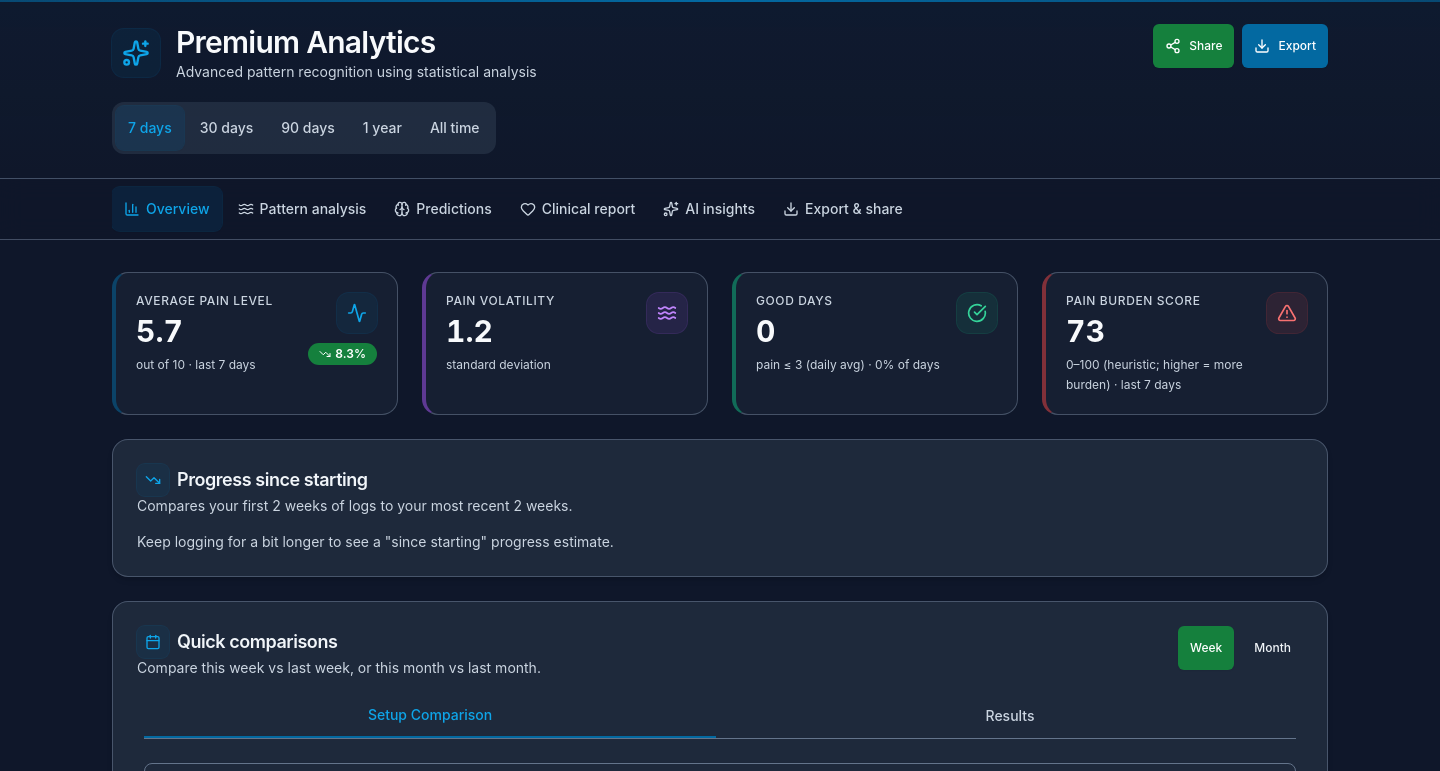
Test: PremiumAnalyticsDashboard patterns include extended fields › shows relief methods, qualities, activities, stress/activity level, and weather correlations
Click the button "Pattern analysis": (302, 209) [226,187,378,231]
(page scrolled)
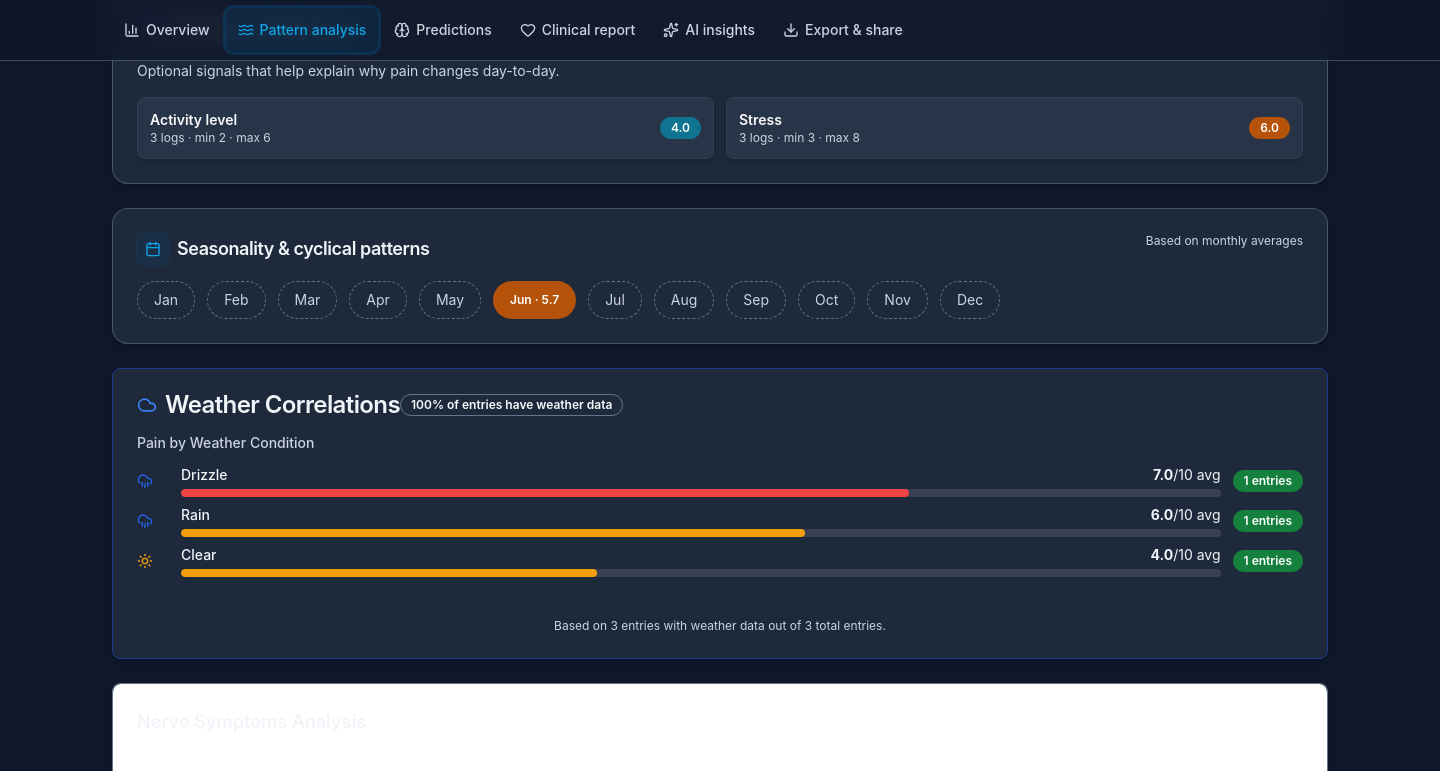
Result: the heading "Stress & activity level" is shown at [177,15,352,43]
Result: the heading "Weather Correlations" is shown at [137,393,400,417]
